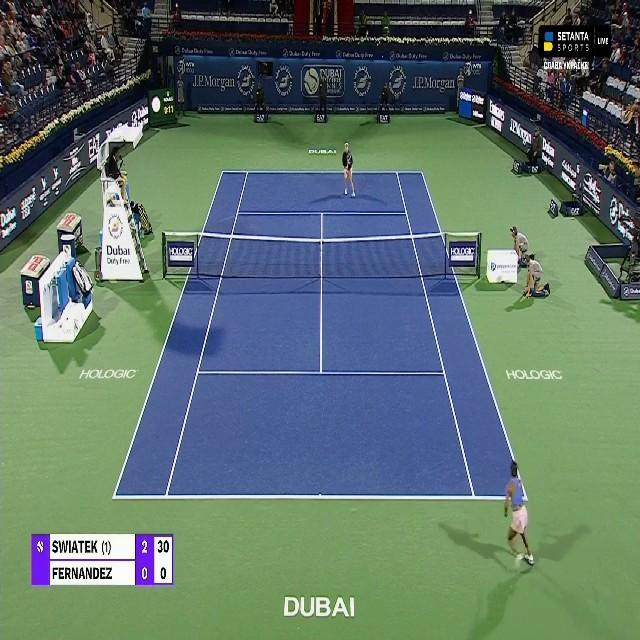left side: (113, 172, 248, 498), (397, 172, 527, 499)
player: (501, 456, 536, 572), (340, 140, 358, 197)
